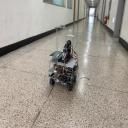cart: (48, 54, 78, 92)
